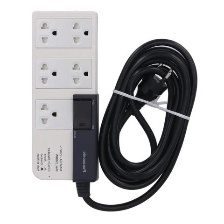three_eye_plug: (28, 8, 101, 183)
